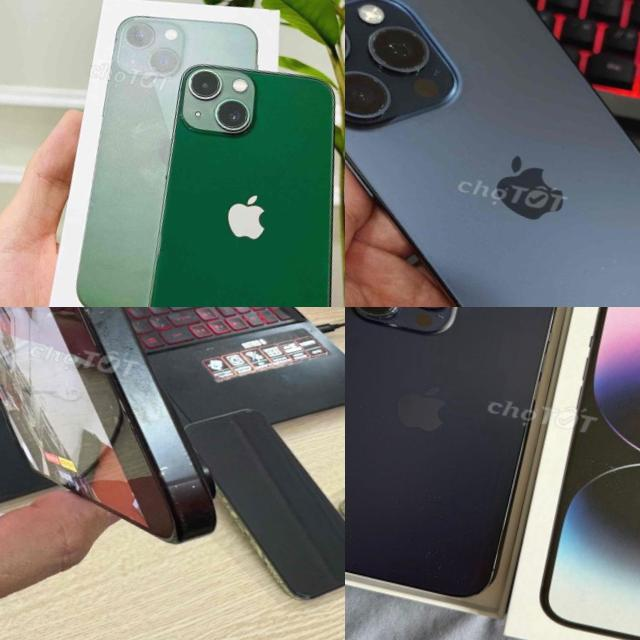gen_12_13: (110, 48, 345, 307)
gen_14: (345, 307, 573, 618)
gen_15: (345, 0, 640, 307)
gen_16: (0, 307, 280, 569)
scratch: (345, 0, 437, 130), (141, 454, 211, 498), (160, 494, 200, 532), (68, 307, 105, 326)
